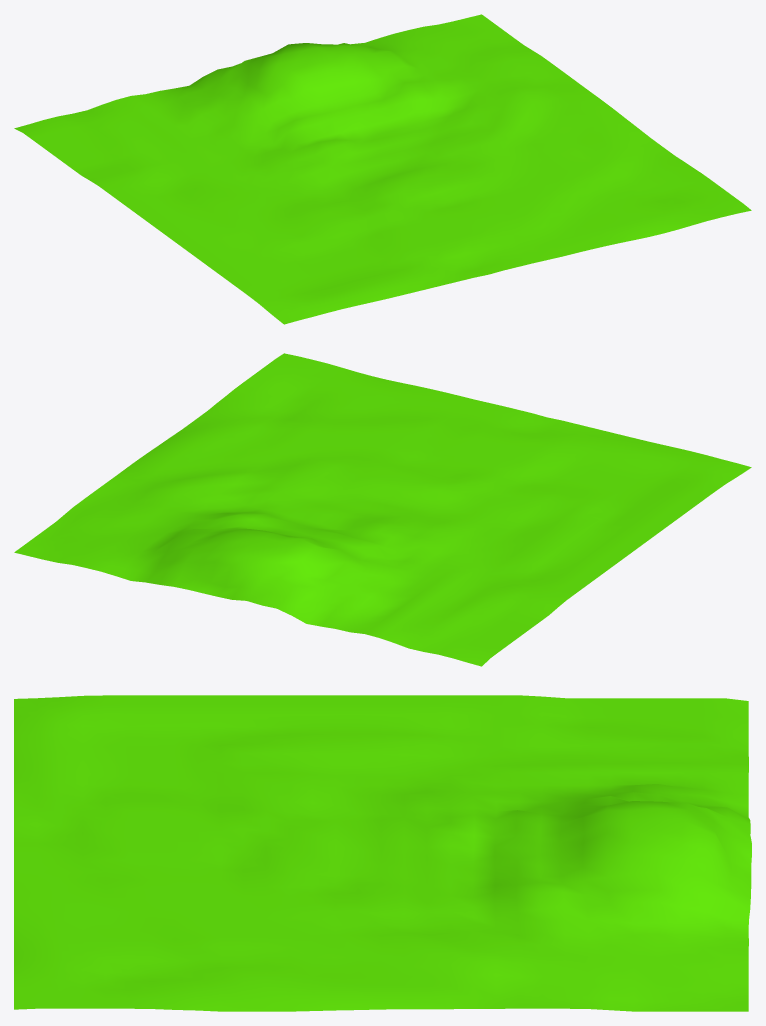
Rendered from terrarian 1.fbx.
3 renders of one model, top to bottom at view 1: azimuth 30°, elevation 25°; view 2: azimuth 150°, elevation 25°; view 3: azimuth 270°, elevation 25°, orthographic. The views are drawn at different scales.
Parts seen in each view (by area): view 1: Cube; view 2: Cube; view 3: Cube.
Part boxes in pixels (<box>): Cube: <box>14,14,751,324</box>; Cube: <box>14,353,751,666</box>; Cube: <box>14,695,751,1011</box>.
Size of the model in its own units: 1127 by 77 by 1132.
